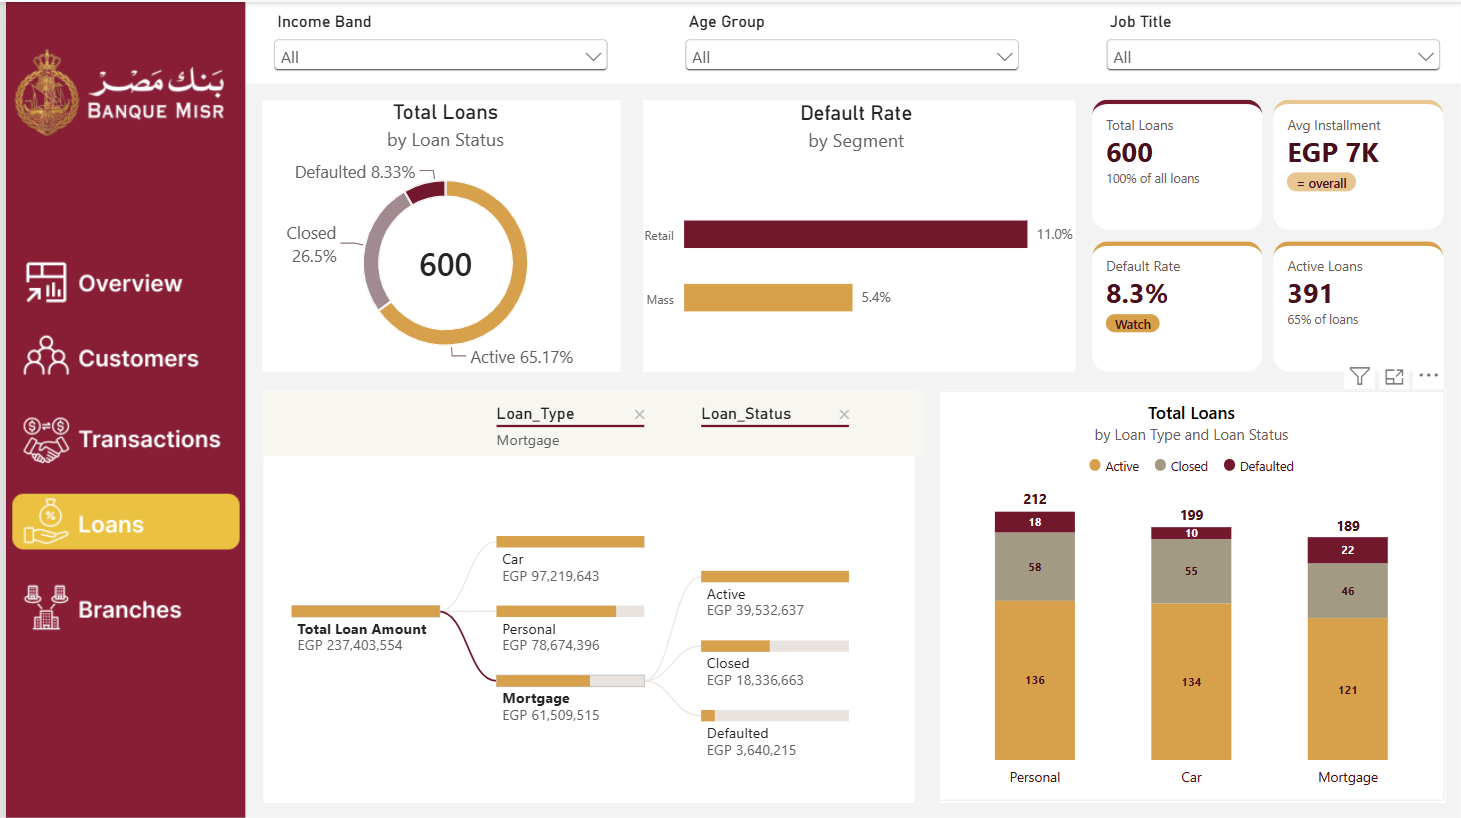

Layout of this report page (visuals, bound fields, positions):
{"tool":"powerbi","page":{"name":"Loans","canvas":[1280,720],"ordinal":4},"visuals":[{"type":"slicer","fields":{"Values":["DimCustomers.Income Band"]},"box":[231,9,303.6,63.1],"z":0},{"type":"slicer","fields":{"Values":["DimCustomers.Age Group"]},"box":[592.9,9,303.6,63.1],"z":1000},{"type":"slicer","fields":{"Values":["DimCustomers.Job_Title"]},"box":[963.1,9,303.6,63.1],"z":2000},{"type":"actionButton","box":[3.6,221.4,206,52.4],"z":3000},{"type":"actionButton","box":[0,285.7,206,52.4],"z":4000},{"type":"actionButton","box":[1.2,359.5,206,52.4],"z":5000},{"type":"actionButton","box":[2.4,506,206,52.4],"z":6000},{"type":"htmlContent443BE3AD55E043BF878BED274D3A6855","fields":{"content":["HTML.HTML KPI Loans"]},"box":[956,85.7,309,239],"z":7000},{"type":"htmlContent443BE3AD55E043BF878BED274D3A6855","fields":{"content":["HTML.HTML Loans by Type and Status"]},"box":[820.2,341.7,445.2,360.7],"z":8000},{"type":"decompositionTreeVisual","fields":{"Analyze":["Dax.Total Loan Amount"],"ExplainBy":["FactLoans.Loan_Type","FactLoans.Loan_Status"]},"box":[226.2,341.7,582.1,366.7],"z":9000},{"type":"donutChart","fields":{"Category":["FactLoans.Loan_Status"],"Y":["Dax.Total Loans"]},"box":[226.2,85.7,320.2,240.5],"z":10000},{"type":"clusteredBarChart","fields":{"Category":["DimCustomers.Segment"],"Y":["Dax.Default Rate"]},"box":[557.1,86.9,381,239.3],"z":11000}]}

Visuals, with their boxes on the page's 1280x720 design canvas (x1, y1, x2, y2). These are canvas units, not pixel positions in the 1461x818 screenshot, which may show the page scaled, cropped or inside an application window:
slicer - DimCustomers.Income Band: [231, 9, 535, 72]
slicer - DimCustomers.Age Group: [593, 9, 896, 72]
slicer - DimCustomers.Job_Title: [963, 9, 1267, 72]
actionButton: [4, 221, 210, 274]
actionButton: [0, 286, 206, 338]
actionButton: [1, 360, 207, 412]
actionButton: [2, 506, 208, 558]
htmlContent443BE3AD55E043BF878BED274D3A6855 - HTML.HTML KPI Loans: [956, 86, 1265, 325]
htmlContent443BE3AD55E043BF878BED274D3A6855 - HTML.HTML Loans by Type and Status: [820, 342, 1265, 702]
decompositionTreeVisual - Dax.Total Loan Amount x FactLoans.Loan_Type: [226, 342, 808, 708]
donutChart - FactLoans.Loan_Status x Dax.Total Loans: [226, 86, 546, 326]
clusteredBarChart - DimCustomers.Segment x Dax.Default Rate: [557, 87, 938, 326]
